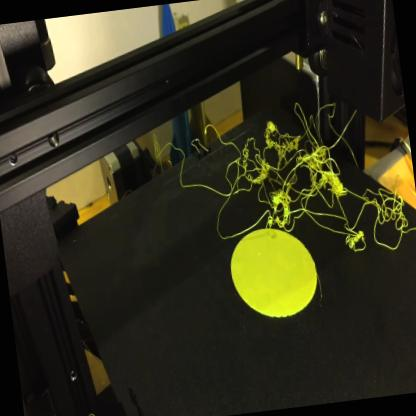fail: (224, 112, 352, 226), (354, 181, 416, 265), (310, 216, 361, 258)
